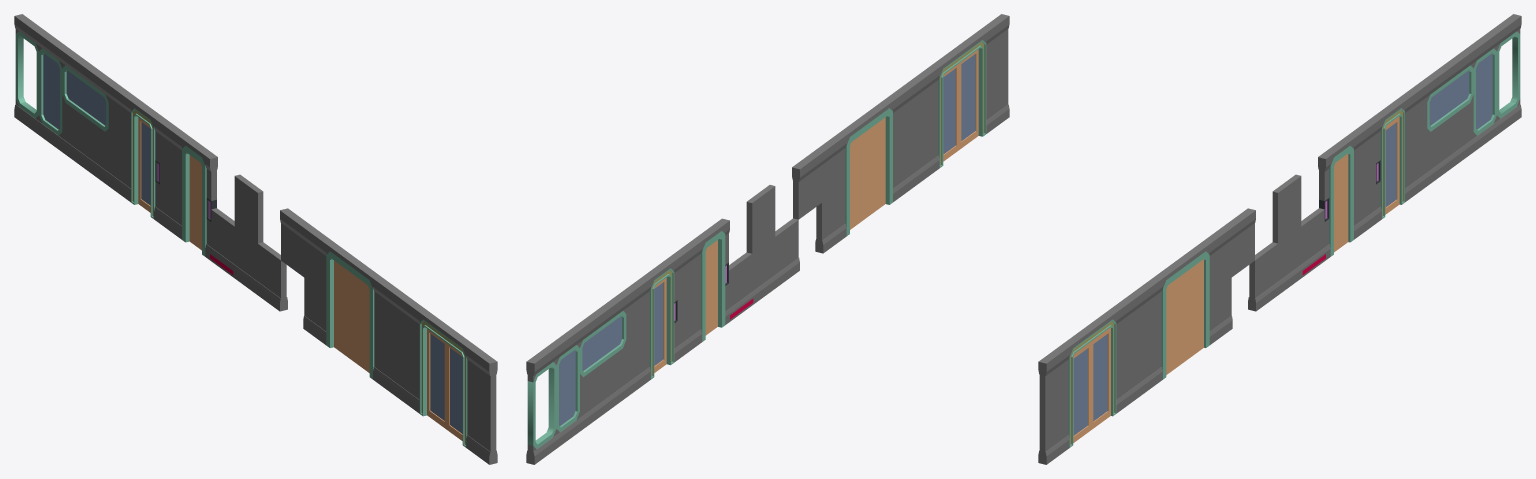
Rendered from DUVAR_VE_ACIKLIK.fbx.
3 views of the same model, side by side, from view 1: azimuth 30°, elevation 25°; view 2: azimuth 150°, elevation 25°; view 3: azimuth 330°, elevation 25° (orthographic).
Parts seen in each view (by area): view 1: DUVAR111, DUVAR100, DUVAR110, DUVAR106, DUVAR109, DUVAR115, DUVAR114, KAPIKASA-I-200, KAPIKASA-200, Box004, Box003, KAPIKANAT-200Y1 (+14 smaller); view 2: DUVAR106, DUVAR100, DUVAR109, DUVAR114, DUVAR115, DUVAR110, DUVAR111, KAPIKASA-I-200, KAPIKASA-200, KAPIKANAT-200Y2, Box004, Box003 (+14 smaller); view 3: DUVAR111, DUVAR100, DUVAR110, DUVAR106, DUVAR109, DUVAR115, DUVAR114, KAPIKASA-I-200, KAPIKASA-200, Box004, Box003, KAPIKANAT-200Y1 (+14 smaller).
Boxes of the visible parts, <box> form: DUVAR111: <box>466,345,497,464</box>; DUVAR100: <box>233,174,263,294</box>; DUVAR110: <box>373,276,403,396</box>; DUVAR106: <box>303,225,334,344</box>; DUVAR109: <box>396,293,427,413</box>; DUVAR115: <box>107,82,138,202</box>; DUVAR114: <box>158,119,189,239</box>; KAPIKASA-I-200: <box>419,310,473,447</box>; KAPIKASA-200: <box>326,242,380,379</box>; Box004: <box>39,46,62,137</box>; Box003: <box>62,63,108,133</box>; KAPIKANAT-200Y1: <box>334,260,353,361</box>; DUVAR106: <box>815,133,846,253</box>; DUVAR100: <box>746,185,776,304</box>; DUVAR109: <box>908,65,939,184</box>; DUVAR114: <box>671,239,702,358</box>; DUVAR115: <box>620,276,650,396</box>; DUVAR110: <box>885,82,916,202</box>; DUVAR111: <box>978,14,1009,133</box>; KAPIKASA-I-200: <box>932,31,986,167</box>; KAPIKASA-200: <box>839,99,892,235</box>; KAPIKANAT-200Y2: <box>865,117,885,218</box>; Box004: <box>556,342,579,434</box>; Box003: <box>580,308,626,379</box>; DUVAR111: <box>1038,345,1069,464</box>; DUVAR100: <box>1272,174,1302,294</box>; DUVAR110: <box>1132,276,1162,396</box>; DUVAR106: <box>1201,225,1232,344</box>; DUVAR109: <box>1108,293,1139,413</box>; DUVAR115: <box>1397,82,1428,202</box>; DUVAR114: <box>1346,119,1377,239</box>; KAPIKASA-I-200: <box>1062,310,1116,447</box>; KAPIKASA-200: <box>1155,242,1209,379</box>; Box004: <box>1473,46,1496,137</box>; Box003: <box>1427,63,1473,133</box>; KAPIKANAT-200Y1: <box>1184,259,1203,361</box>.
Bounding box in the file's own units: 20 × 240 × 2040.
